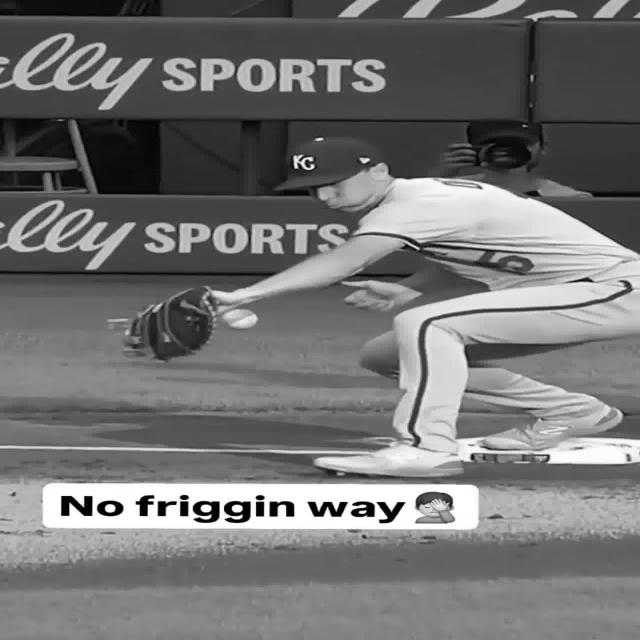base: (458, 438, 640, 465)
baseball: (222, 309, 258, 330)
baseball_glove: (127, 286, 213, 360)
shoe: (482, 405, 625, 451), (313, 440, 465, 478)
